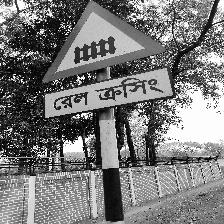Rail-crossing: (41, 0, 175, 121)
